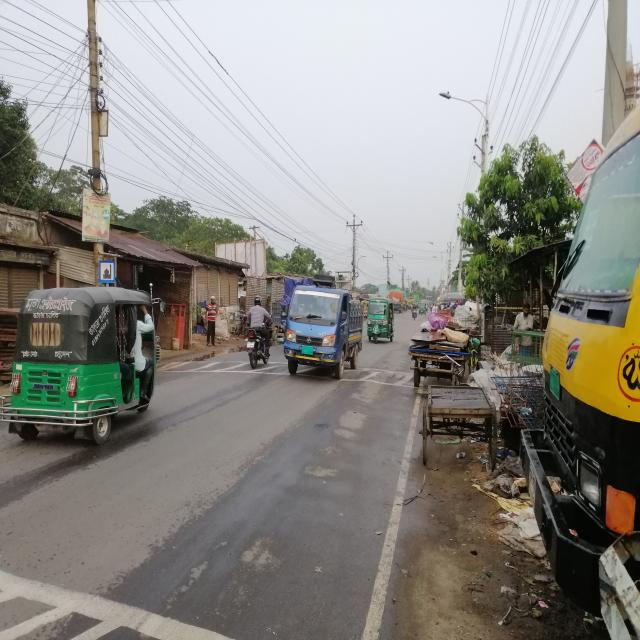CNG: (1, 286, 162, 436), (365, 299, 397, 347)
Motorbike: (247, 327, 275, 372)
Pick-up-van: (281, 273, 363, 381)
